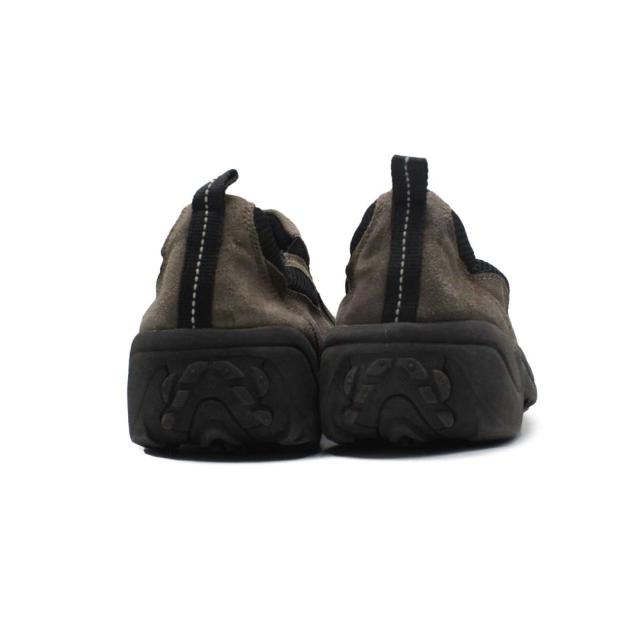heel: (330, 147, 503, 327), (135, 175, 308, 332)
midsole: (130, 332, 520, 457)
